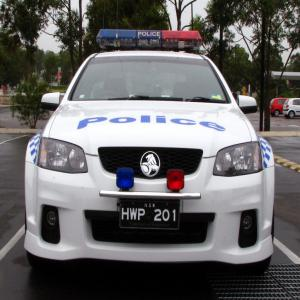Vehicle-registration-plate: (121, 199, 180, 233)
